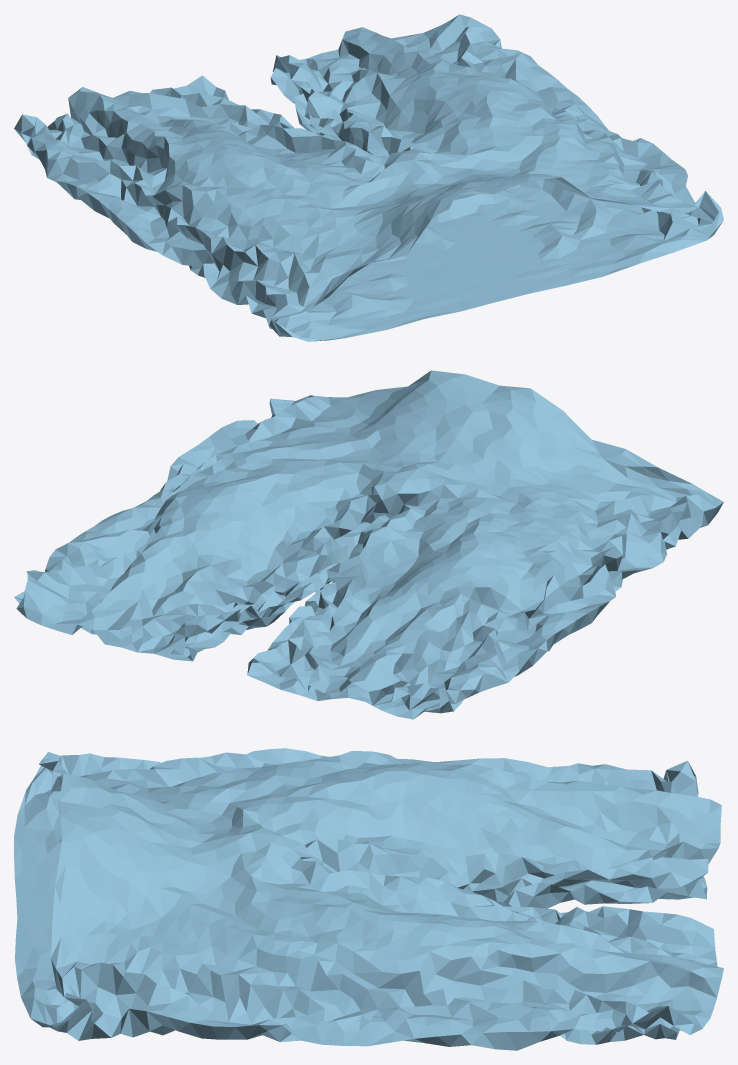
The model's file is frame_00.glb.
3 views of the same model, one above another, from view 1: azimuth 30°, elevation 25°; view 2: azimuth 150°, elevation 25°; view 3: azimuth 270°, elevation 25° (orthographic). The views are drawn at different scales.
Parts seen in each view (by area): view 1: frame_00.obj; view 2: frame_00.obj; view 3: frame_00.obj.
Part boxes in pixels (x1=…): frame_00.obj: x1=14, y1=14, x2=723, y2=341; frame_00.obj: x1=14, y1=370, x2=723, y2=719; frame_00.obj: x1=14, y1=748, x2=723, y2=1050.
Bounding box in the file's own units: 1.39 × 0.3015 × 1.51.
